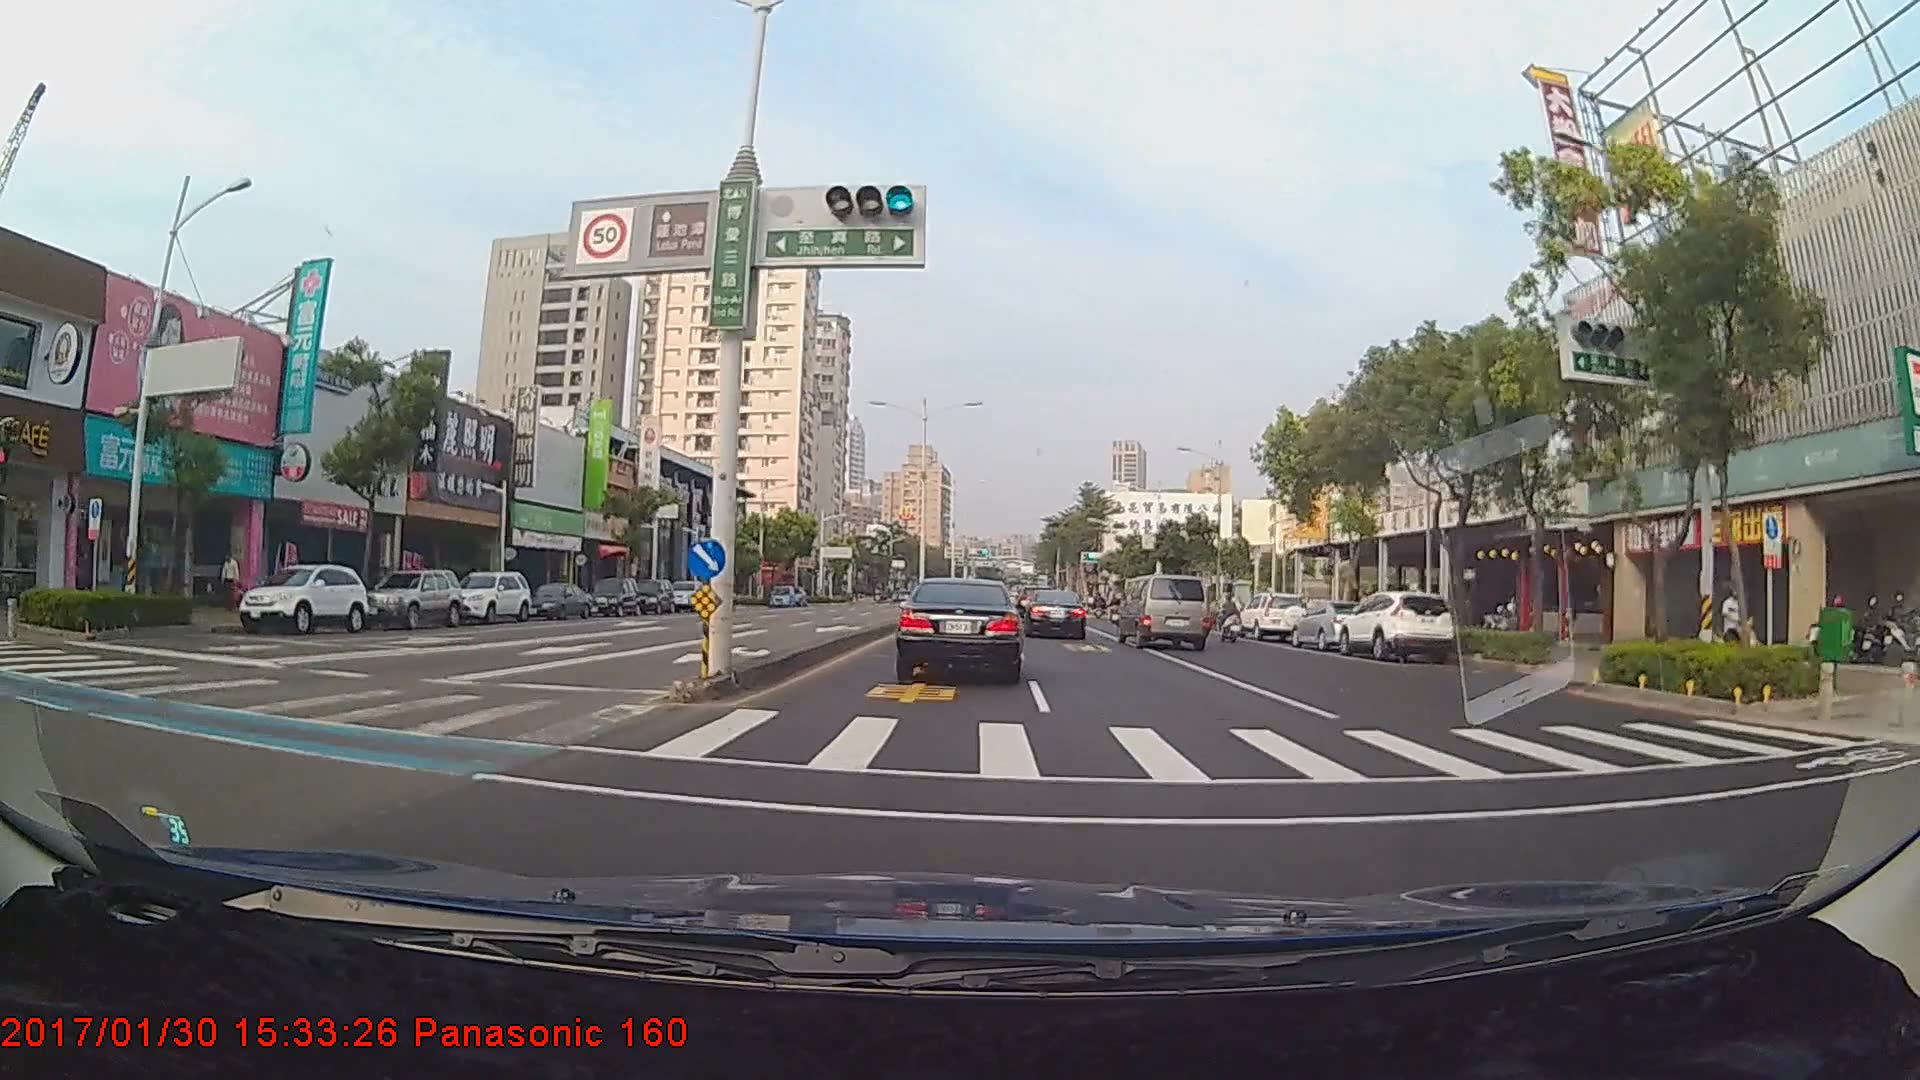pedestrian: (218, 555, 243, 616)
rider: (1211, 592, 1249, 642)
vehicle: (897, 576, 1021, 682), (232, 562, 366, 633), (1332, 587, 1457, 660), (1119, 574, 1210, 650), (353, 566, 460, 629), (448, 570, 534, 626), (1289, 598, 1376, 649), (1019, 589, 1088, 641), (517, 579, 591, 622), (1241, 593, 1305, 641), (585, 575, 639, 616), (632, 576, 674, 614), (672, 580, 712, 614)
